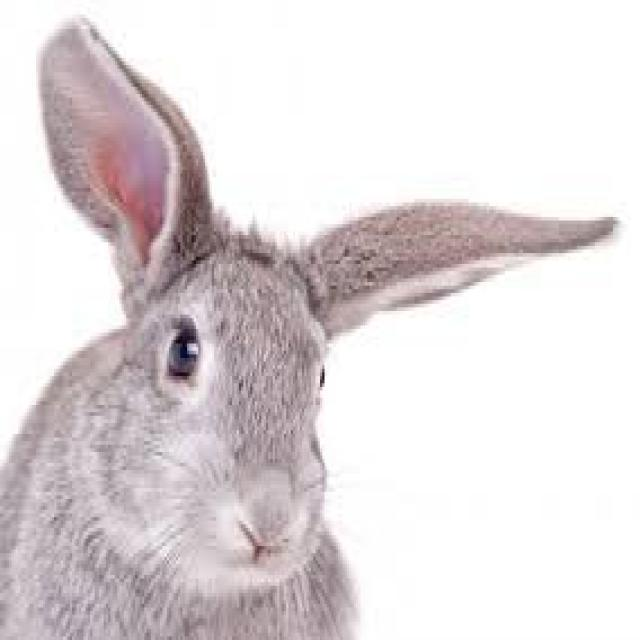Hare: (0, 16, 622, 640)
